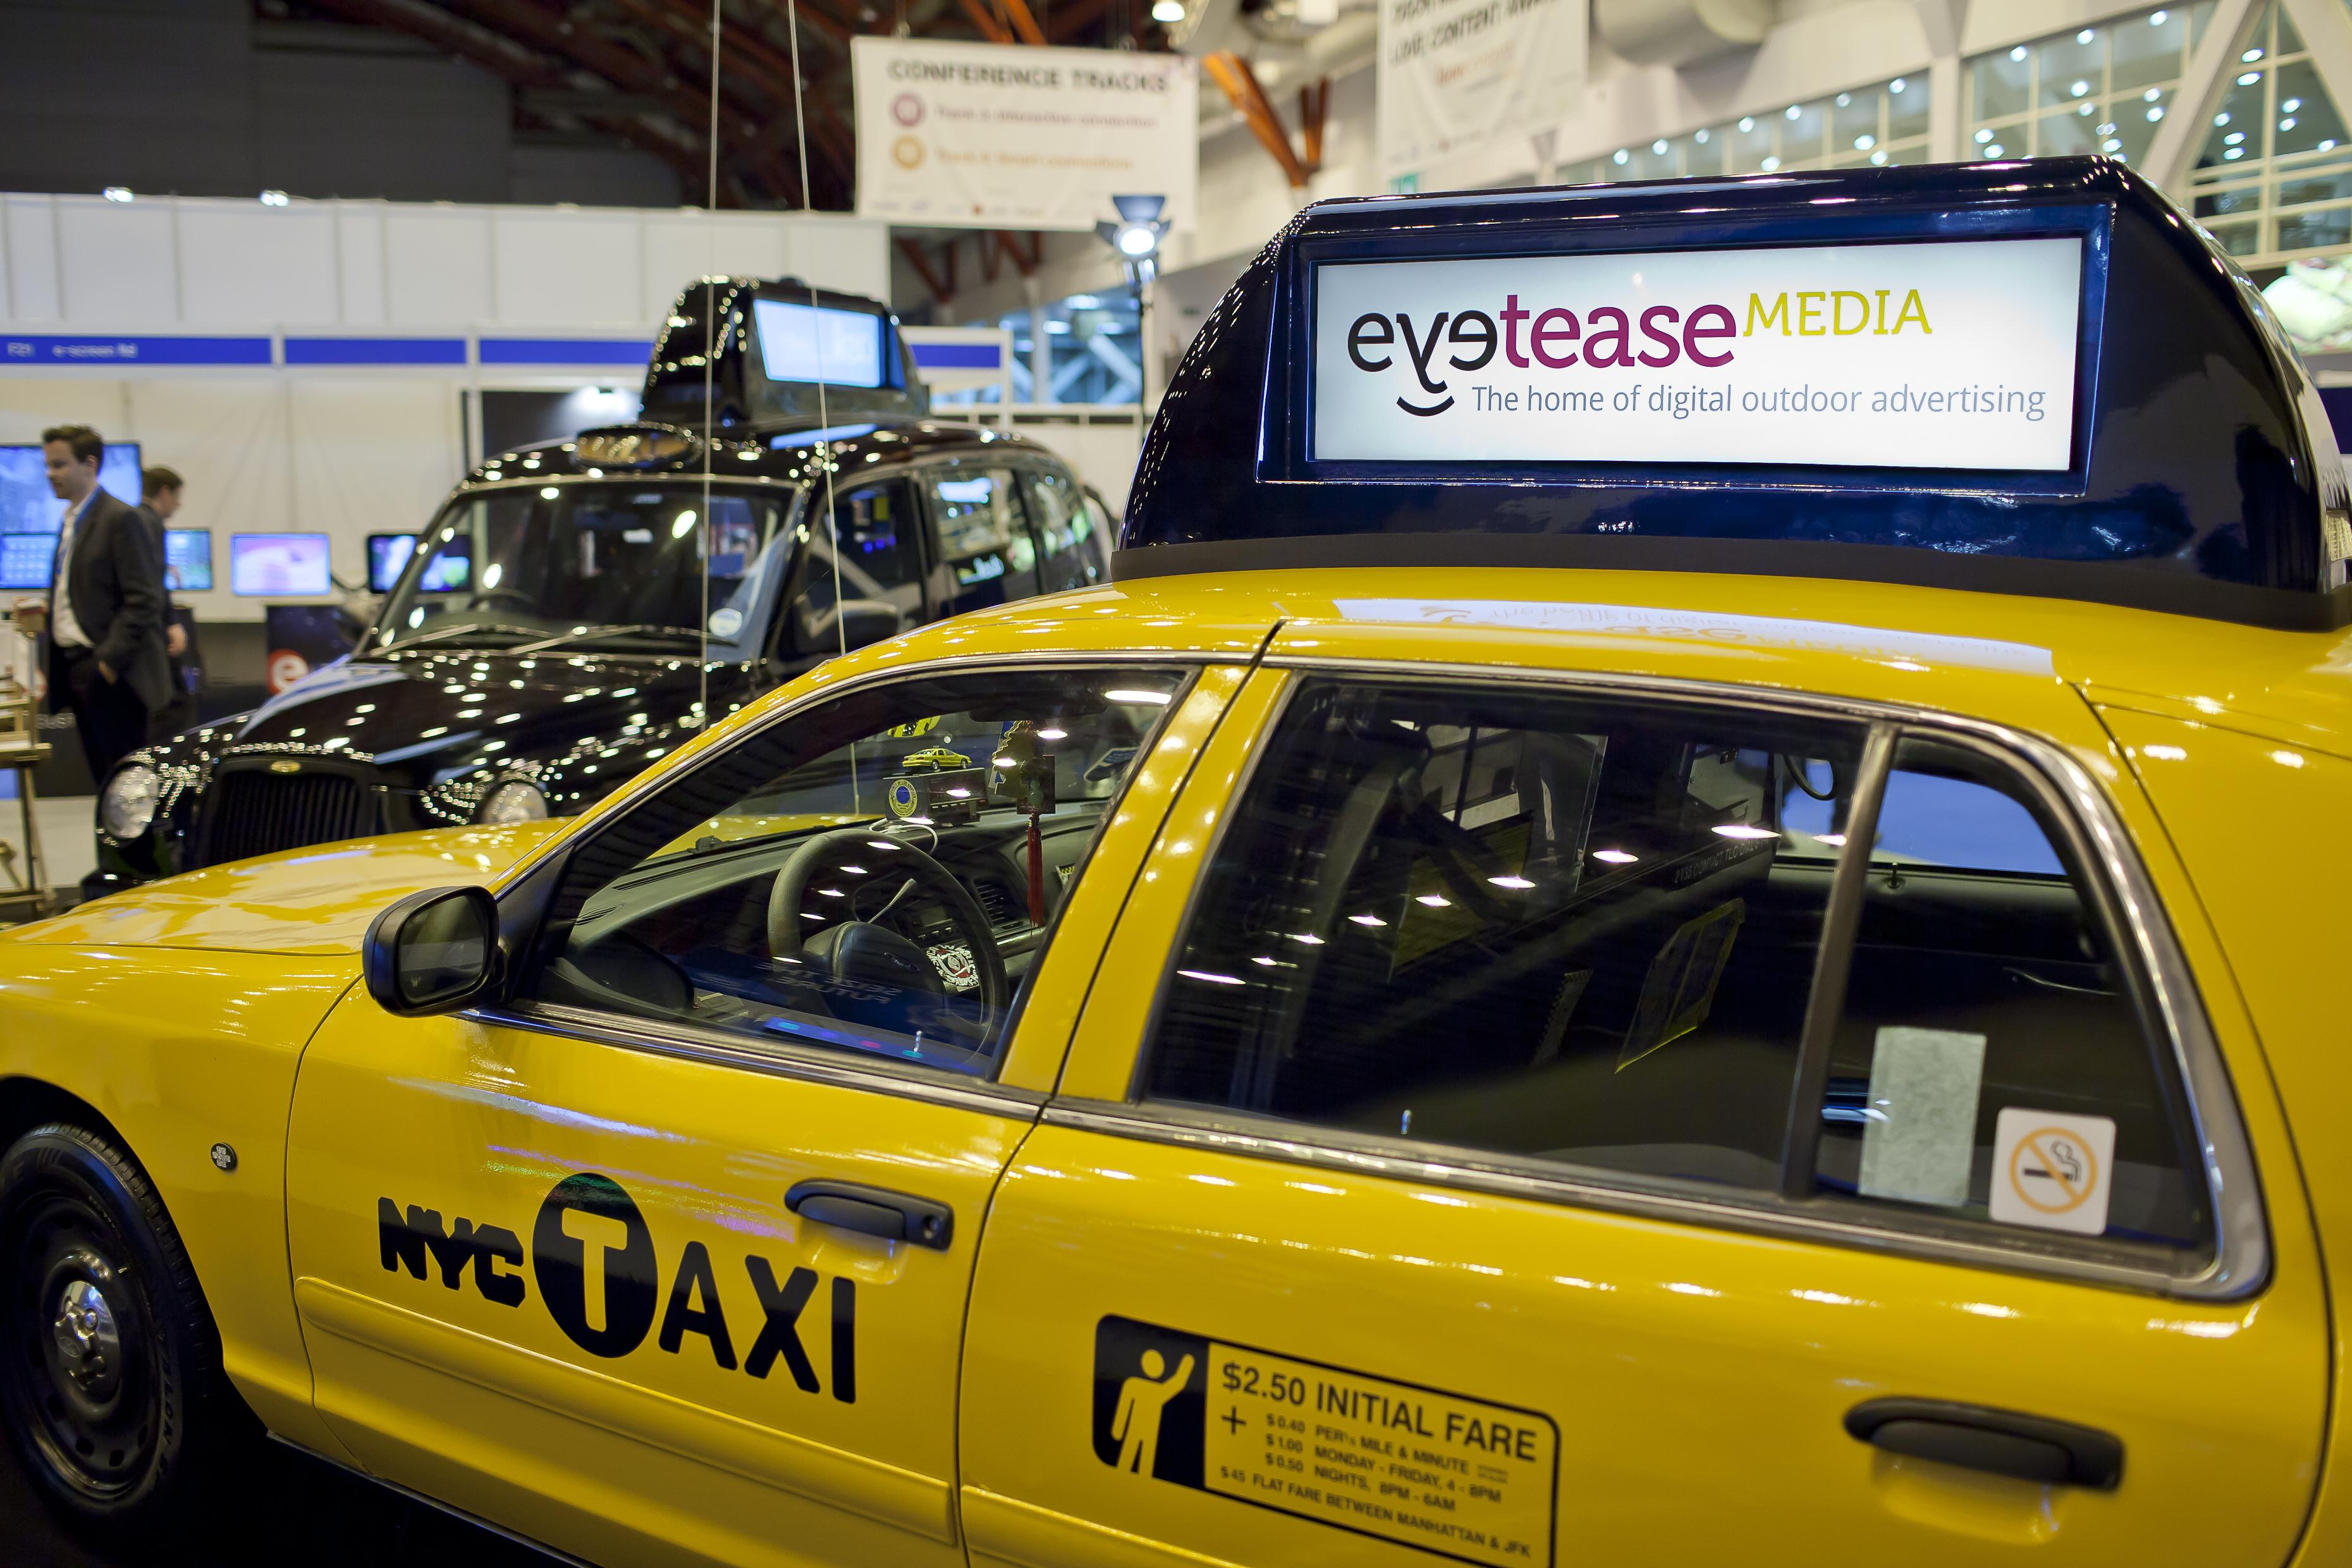taxi: (250, 497, 2352, 1568)
